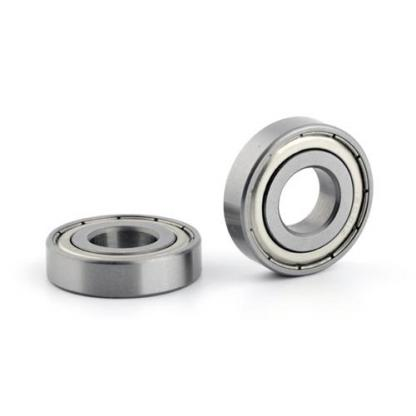FOD: (221, 112, 376, 279), (42, 207, 203, 301)
